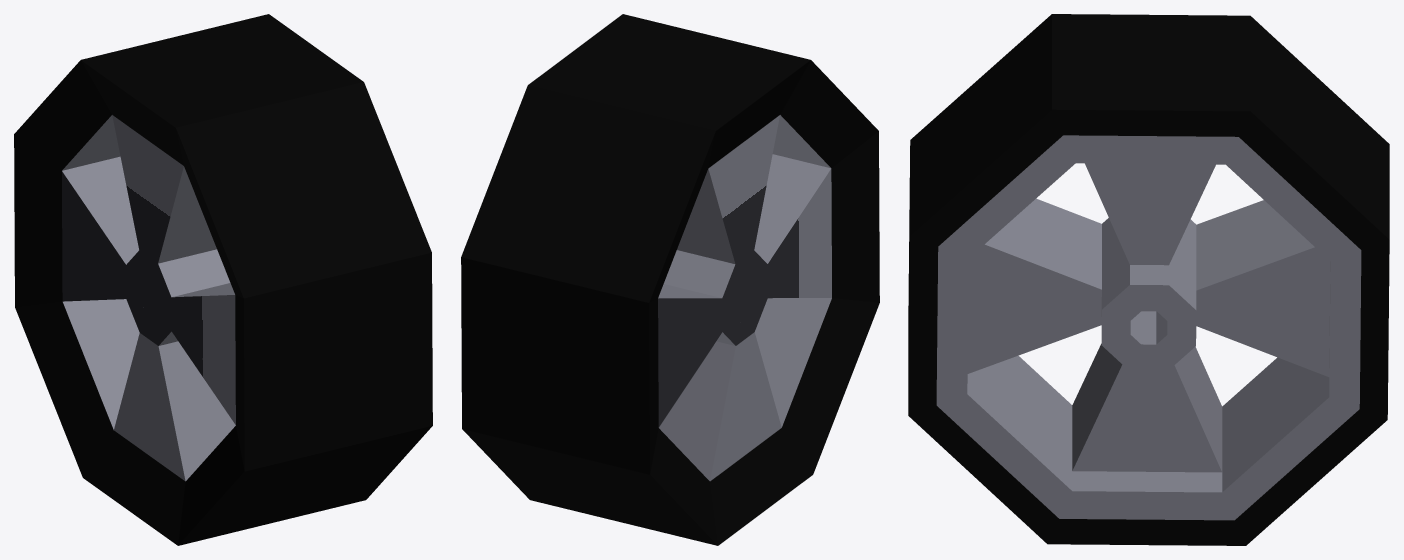
The model's file is SmallWheel.glb.
3 renders of one model, left to right at view 1: azimuth 30°, elevation 25°; view 2: azimuth 150°, elevation 25°; view 3: azimuth 270°, elevation 25°, orthographic. The views are drawn at different scales.
Visible parts, largest first — view 1: Wheel; view 2: Wheel; view 3: Wheel.
Part boxes in pixels (bbox=[...]): Wheel: bbox=[14, 14, 432, 545]; Wheel: bbox=[461, 14, 879, 545]; Wheel: bbox=[908, 14, 1389, 545].
Bounding box in the file's own units: 0.5702 × 1.21 × 1.21.
1 material, 1 textured.
